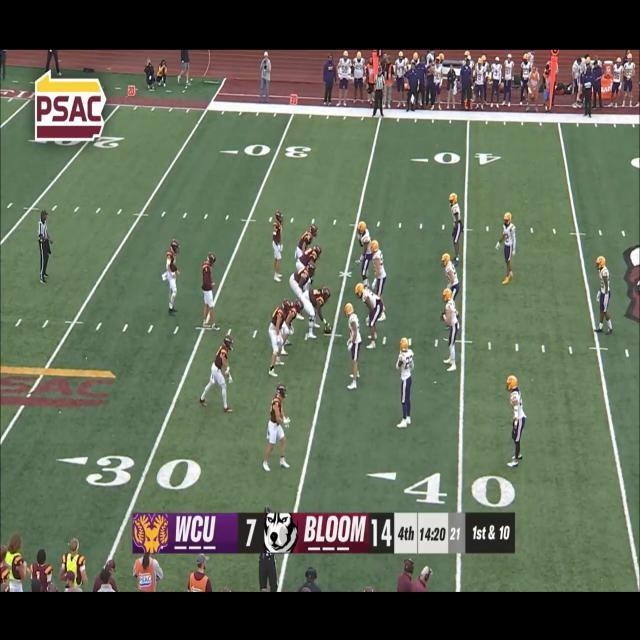football: (322, 320, 334, 339)
